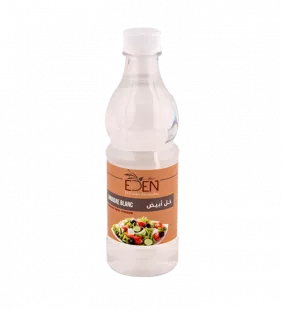Promotion: (99, 19, 188, 284)
